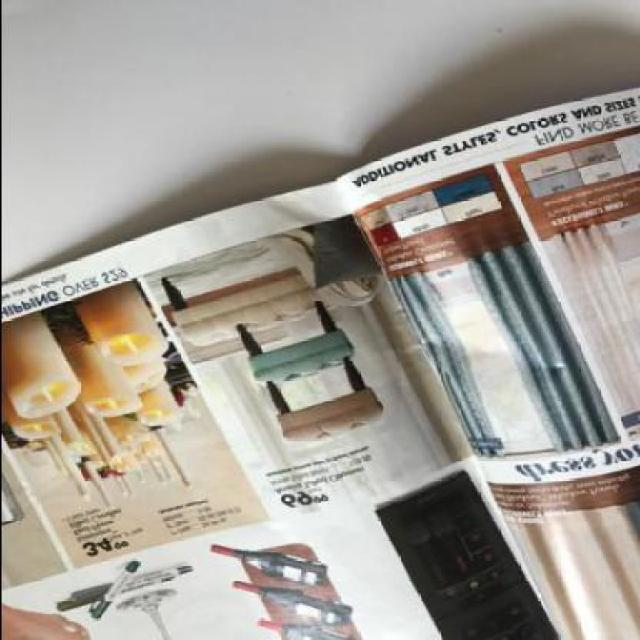PAPER: (1, 87, 638, 640)
